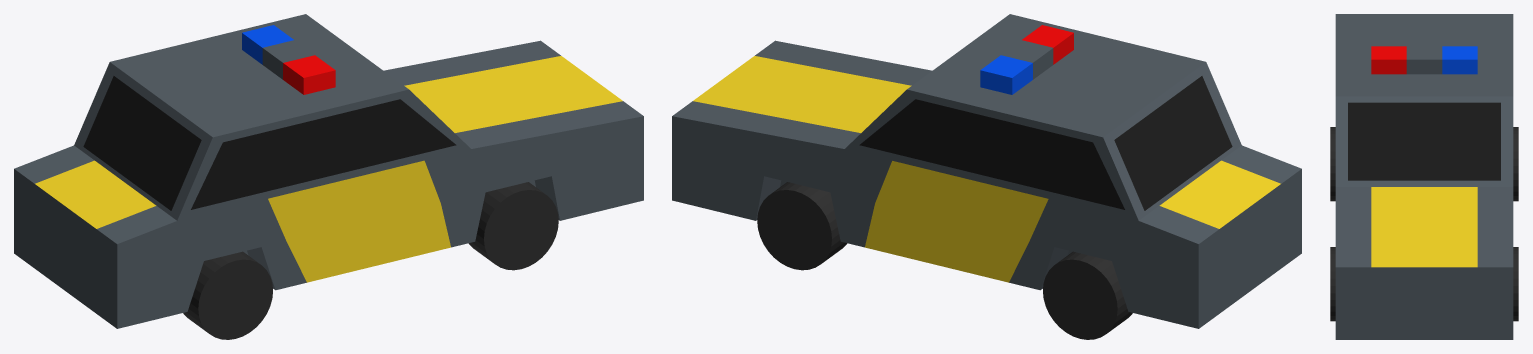
Rendered from carpolice.glb.
3 views of the same model, side by side, from view 1: azimuth 30°, elevation 25°; view 2: azimuth 150°, elevation 25°; view 3: azimuth 270°, elevation 25° (orthographic). The views are drawn at different scales.
Visible parts, largest first — view 1: car_police; view 2: car_police; view 3: car_police.
Part boxes in pixels (x1,y1,x2,y2): car_police: (14,14,643,339); car_police: (672,14,1301,339); car_police: (1330,14,1518,339).
Size of the model in its own units: 5.9 by 2.37 by 2.12.
